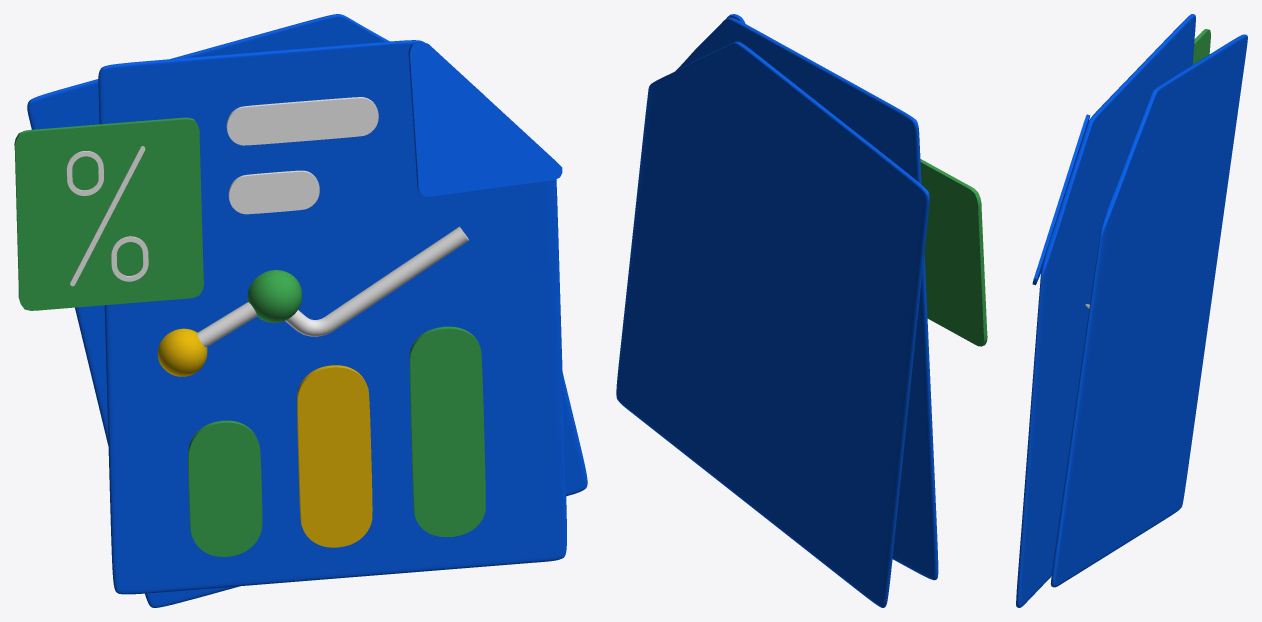
File: sales-report-3d-animated-icon-548853132785.glb
3 renders of one model, left to right at view 1: azimuth 30°, elevation 25°; view 2: azimuth 150°, elevation 25°; view 3: azimuth 270°, elevation 25°, orthographic. The views are drawn at different scales.
Visible parts, largest first — view 1: Plane, Plane.006, Plane.005, Plane.007, Plane.003, Plane.008, Plane.004, Plane.002, Cylinder, Plane.001, Curve.001, Sphere.002 (+1 smaller); view 2: Plane.008, Plane, Plane.006; view 3: Plane.008, Plane, Plane.007, Plane.006.
Part boxes in pixels (x1,y1,x2,y2): Plane: (98,40,566,594); Plane.006: (14,117,203,310); Plane.005: (409,326,485,537); Plane.007: (408,41,562,196); Plane.003: (297,365,372,547); Plane.008: (27,14,587,607); Plane.004: (188,420,262,556); Plane.002: (226,97,378,145); Cylinder: (197,226,468,347); Plane.001: (228,170,319,214); Curve.001: (66,146,148,286); Sphere.002: (247,270,301,322); Plane.008: (616,41,929,607); Plane: (676,17,938,580); Plane.006: (920,159,987,346); Plane.008: (1051,34,1247,587); Plane: (1016,14,1195,607); Plane.007: (1032,114,1090,285); Plane.006: (1192,29,1210,64).
Size of what is drawn, in the model's own units: 3.01 by 3.33 by 1.43.
